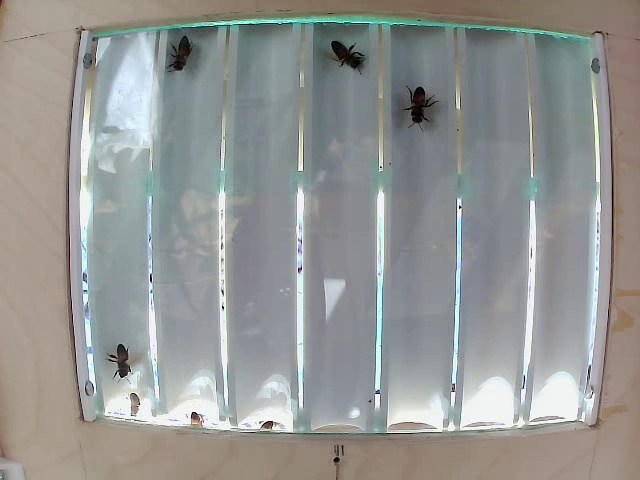bee: (98, 331, 148, 380), (155, 32, 202, 81), (403, 73, 433, 137), (331, 30, 365, 81)
